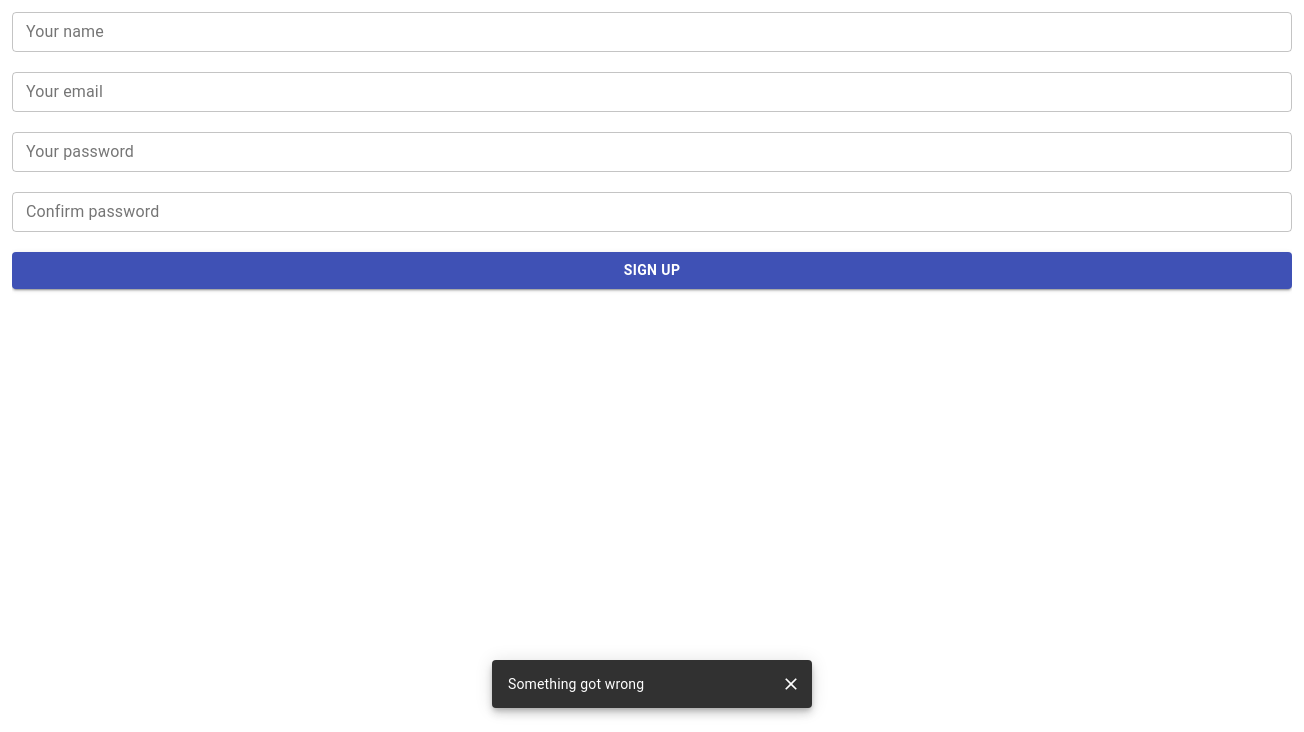
Test: GetStartedForm tests › Close error snackbar on close icon click
This screenshot has width=1304, height=732.
Expected: the text "Something got wrong" is shown, [508,676,644,692]
What coordinates should you click on to do the following:
click the button named "Close"
I would click on:
 (791, 684)
Its box is [778,671,804,697].
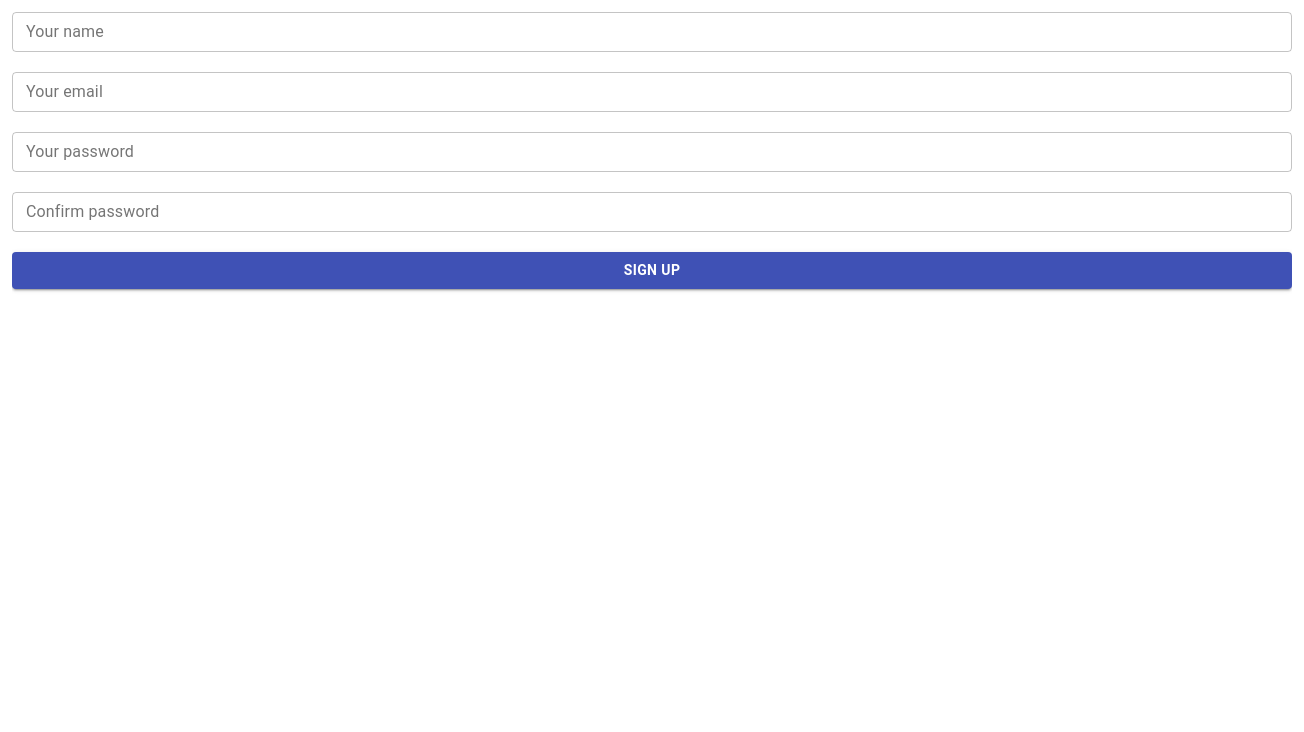
Now the text "Something got wrong" is gone
